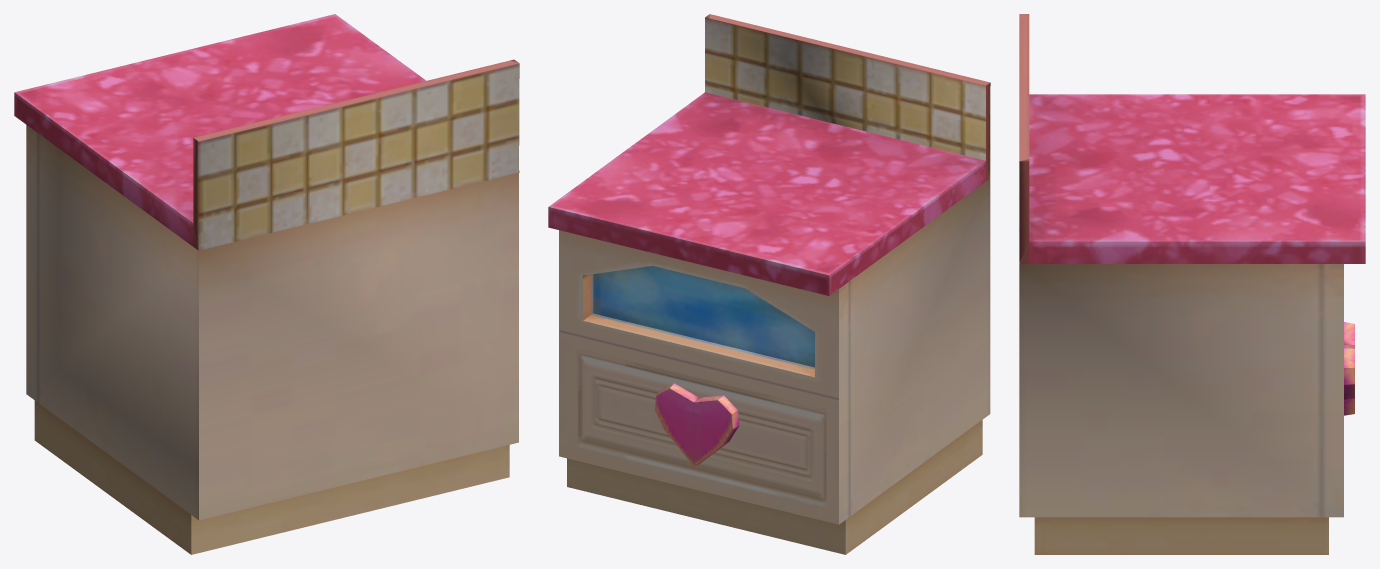
The model's file is furni_0200019.FBX.
The picture shows the model from 3 angles, left to right: view 1: azimuth 30°, elevation 25°; view 2: azimuth 150°, elevation 25°; view 3: azimuth 270°, elevation 25°; orthographic projection. The views are drawn at different scales.
Visible parts, largest first — view 1: furni_0200019; view 2: furni_0200019; view 3: furni_0200019.
Part boxes in pixels (box(x1,y1,x2,y2)): furni_0200019: box(14, 14, 519, 554); furni_0200019: box(548, 14, 990, 554); furni_0200019: box(1019, 14, 1365, 554).
Size of the model in its own units: 80.42 by 100 by 80.
